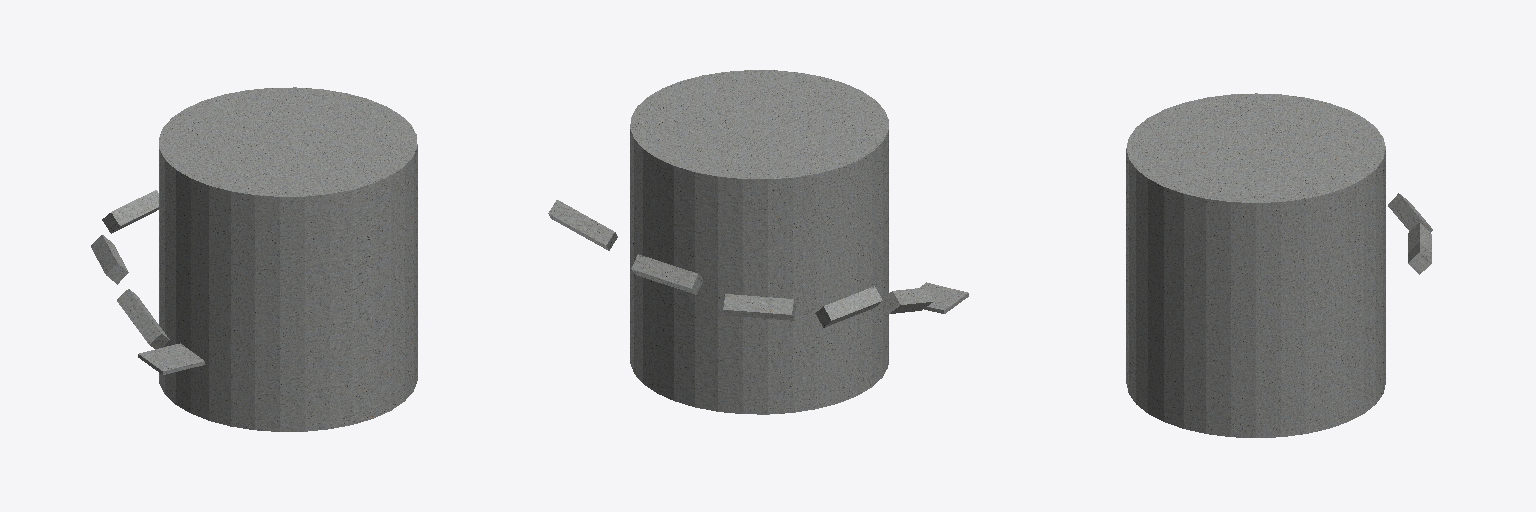
3 views of the same model, side by side, from view 1: azimuth 30°, elevation 25°; view 2: azimuth 150°, elevation 25°; view 3: azimuth 270°, elevation 25° (orthographic).
Parts seen in each view (by area): view 1: Cube.002; view 2: Cube.002; view 3: Cube.002.
Part boxes in pixels (bbox=[...]): Cube.002: bbox=[91, 87, 417, 431]; Cube.002: bbox=[548, 70, 968, 414]; Cube.002: bbox=[1126, 93, 1432, 437].
Size of the model in its own units: 40.12 by 30.64 by 36.27.
Materials: 1 (1 with a texture image).